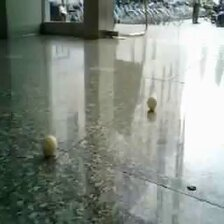w: (40, 134, 57, 155), (145, 95, 159, 111)
